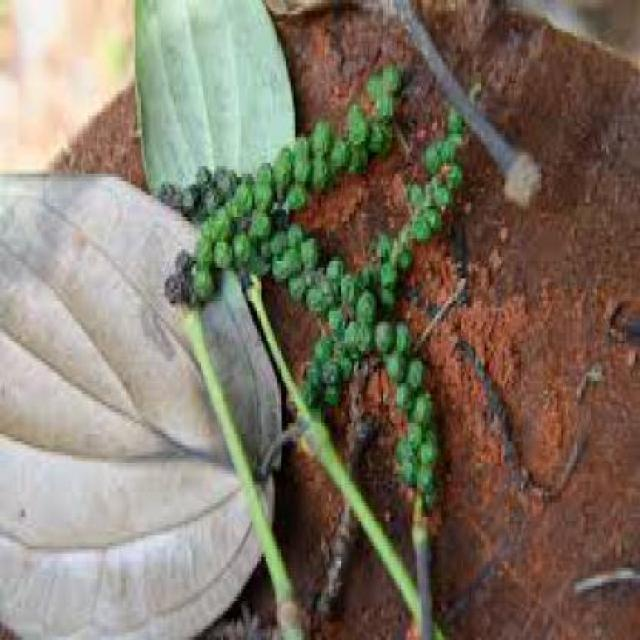UNRIPE: (197, 66, 400, 243)
